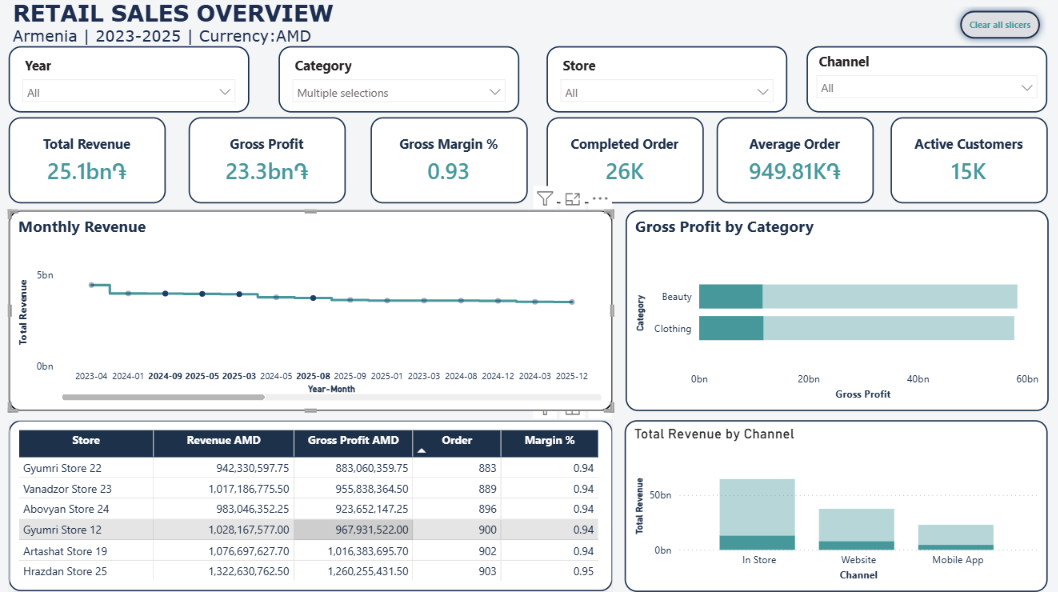

What the dashboard file says about the page in this screenshot:
{"tool":"powerbi","page":{"name":"Page 1","canvas":[1280,720],"ordinal":0},"visuals":[{"type":"textbox","box":[13.7,0,1266.6,70],"z":0},{"type":"slicer","title":"Year","fields":{"Values":["DimDate.Year"]},"box":[13.8,61.6,290,80.1],"z":1000},{"type":"slicer","title":"Year","fields":{"Values":["Products.category"]},"box":[339,61.5,290,80.1],"z":2000},{"type":"slicer","title":"Year","fields":{"Values":["Stores.store_name"]},"box":[662.3,61.5,290,80.1],"z":3000},{"type":"slicer","title":"Year","fields":{"Values":["Retail_Sales.channel"]},"box":[976,61.5,290,80.1],"z":4000},{"type":"cardVisual","fields":{"Data":["KeyMeasures.Total Revenue"]},"box":[13.3,147.4,189.4,103.8],"z":5000},{"type":"cardVisual","fields":{"Data":["KeyMeasures.Gross Profit"]},"box":[230.4,147.4,189.4,103.8],"z":6000},{"type":"cardVisual","fields":{"Data":["KeyMeasures.Gross Margin %"]},"box":[450,147.4,189.4,103.8],"z":7000},{"type":"cardVisual","fields":{"Data":["KeyMeasures.Completed Orders"]},"box":[662.3,147.4,189.4,103.8],"z":8000},{"type":"cardVisual","fields":{"Data":["KeyMeasures.Average Order Value"]},"box":[867.4,147.4,189.4,103.8],"z":9000},{"type":"cardVisual","fields":{"Data":["KeyMeasures.Active Customers"]},"box":[1077.4,147.4,189.4,103.8],"z":10000},{"type":"lineChart","title":"Monthly Revenue","fields":{"Y":["KeyMeasures.Total Revenue"],"Category":["DimDate.Year-Month"]},"box":[12.8,259.5,728.5,242.4],"z":10001},{"type":"barChart","title":"Gross Profit by Category","fields":{"Y":["KeyMeasures.Gross Profit"],"Category":["Products.category"]},"box":[757.1,259.5,510.4,242.4],"z":10002},{"type":"tableEx","fields":{"Values":["Stores.store_name","KeyMeasures.Total Revenue","KeyMeasures.Gross Profit","KeyMeasures.Completed Order","KeyMeasures.Gross Margin %"]},"box":[12.8,513.3,728.5,206.7],"z":10003},{"type":"columnChart","fields":{"Y":["KeyMeasures.Total Revenue"],"Category":["Retail_Sales.channel"]},"box":[757,513,510,207],"z":10004},{"type":"actionButton","box":[1153.9,10.6,112.2,49.6],"z":10006}]}

Visuals, with their boxes in screenshot pixels (x1, y1, x2, y2), scaled from the page's 1280x720 canvas onto the 1058x592 screenshot:
textbox: pyautogui.locateOnScreen(11, 0, 1057, 58)
"Year" slicer: pyautogui.locateOnScreen(11, 51, 251, 117)
"Year" slicer: pyautogui.locateOnScreen(280, 51, 520, 116)
"Year" slicer: pyautogui.locateOnScreen(547, 51, 787, 116)
"Year" slicer: pyautogui.locateOnScreen(807, 51, 1046, 116)
cardVisual - KeyMeasures.Total Revenue: pyautogui.locateOnScreen(11, 121, 168, 207)
cardVisual - KeyMeasures.Gross Profit: pyautogui.locateOnScreen(190, 121, 347, 207)
cardVisual - KeyMeasures.Gross Margin %: pyautogui.locateOnScreen(372, 121, 529, 207)
cardVisual - KeyMeasures.Completed Orders: pyautogui.locateOnScreen(547, 121, 704, 207)
cardVisual - KeyMeasures.Average Order Value: pyautogui.locateOnScreen(717, 121, 874, 207)
cardVisual - KeyMeasures.Active Customers: pyautogui.locateOnScreen(891, 121, 1047, 207)
"Monthly Revenue" lineChart: pyautogui.locateOnScreen(11, 213, 613, 413)
"Gross Profit by Category" barChart: pyautogui.locateOnScreen(626, 213, 1048, 413)
tableEx - Stores.store_name x KeyMeasures.Total Revenue: pyautogui.locateOnScreen(11, 422, 613, 591)
columnChart - KeyMeasures.Total Revenue x Retail_Sales.channel: pyautogui.locateOnScreen(626, 422, 1047, 591)
actionButton: pyautogui.locateOnScreen(954, 9, 1047, 49)
